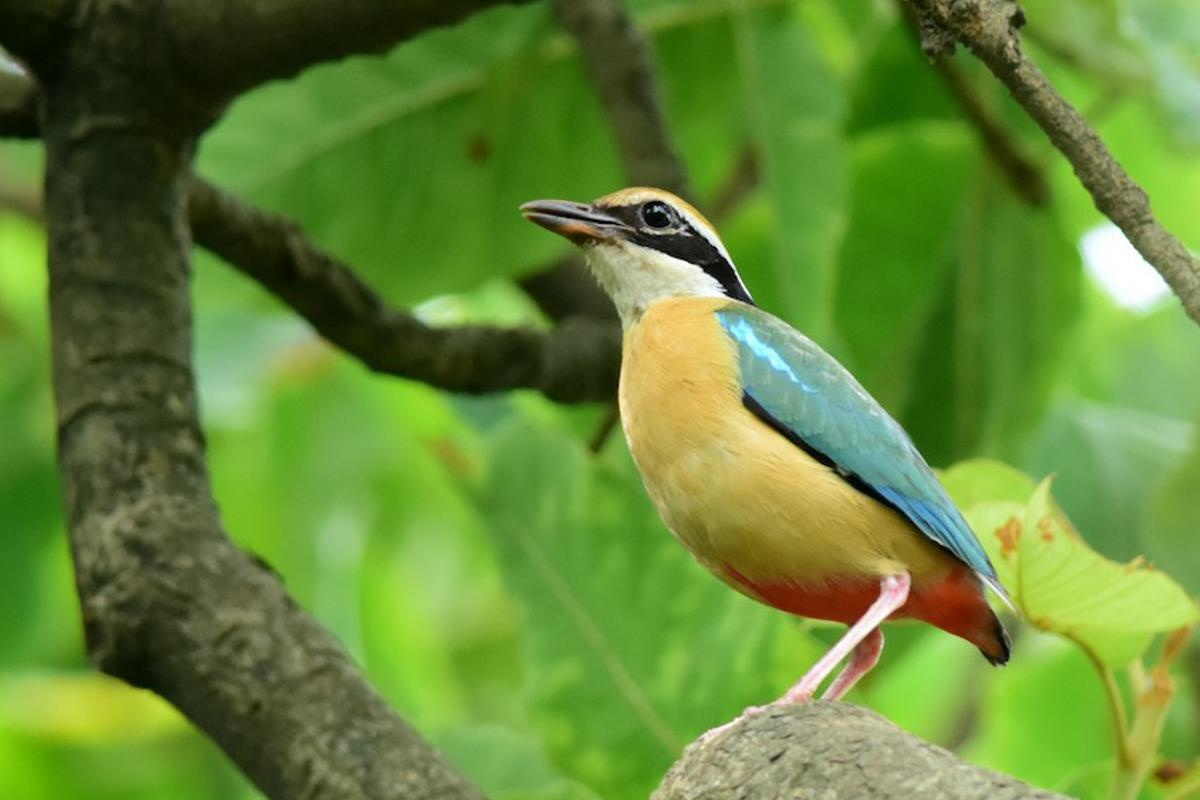pitta: (507, 118, 1083, 743)
